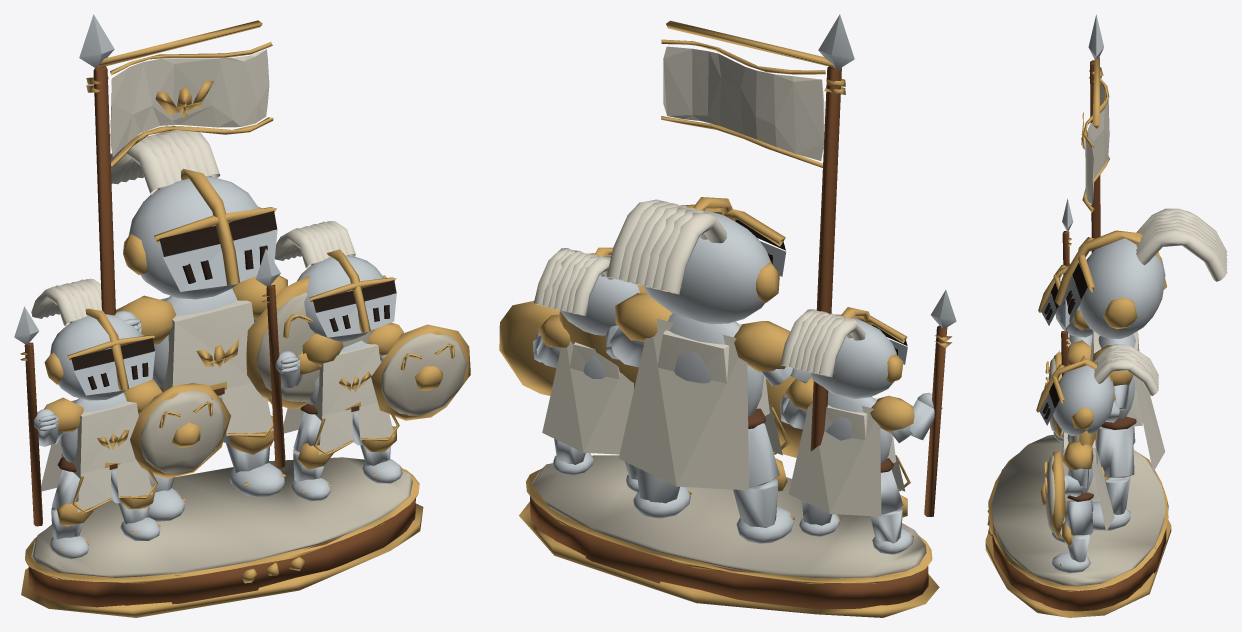
File: default_knight_l3.glb
3 renders of one model, left to right at view 1: azimuth 30°, elevation 25°; view 2: azimuth 150°, elevation 25°; view 3: azimuth 270°, elevation 25°, orthographic. The views are drawn at different scales.
Parts seen in each view (by area): view 1: WoodBody, FixedDetails, BrassTrim; view 2: WoodBody, FixedDetails, BrassTrim; view 3: FixedDetails, WoodBody, BrassTrim.
Boxes of the visible parts, x1,y1,x2,y2 form: WoodBody: (31, 49, 467, 577); FixedDetails: (14, 14, 415, 607); BrassTrim: (20, 20, 470, 617); WoodBody: (532, 46, 926, 578); FixedDetails: (530, 14, 956, 608); BrassTrim: (499, 20, 951, 617); FixedDetails: (992, 14, 1166, 611); WoodBody: (991, 83, 1227, 586); BrassTrim: (985, 57, 1171, 617).
Size of the model in its own units: 0.5926 by 0.7081 by 0.3247.
